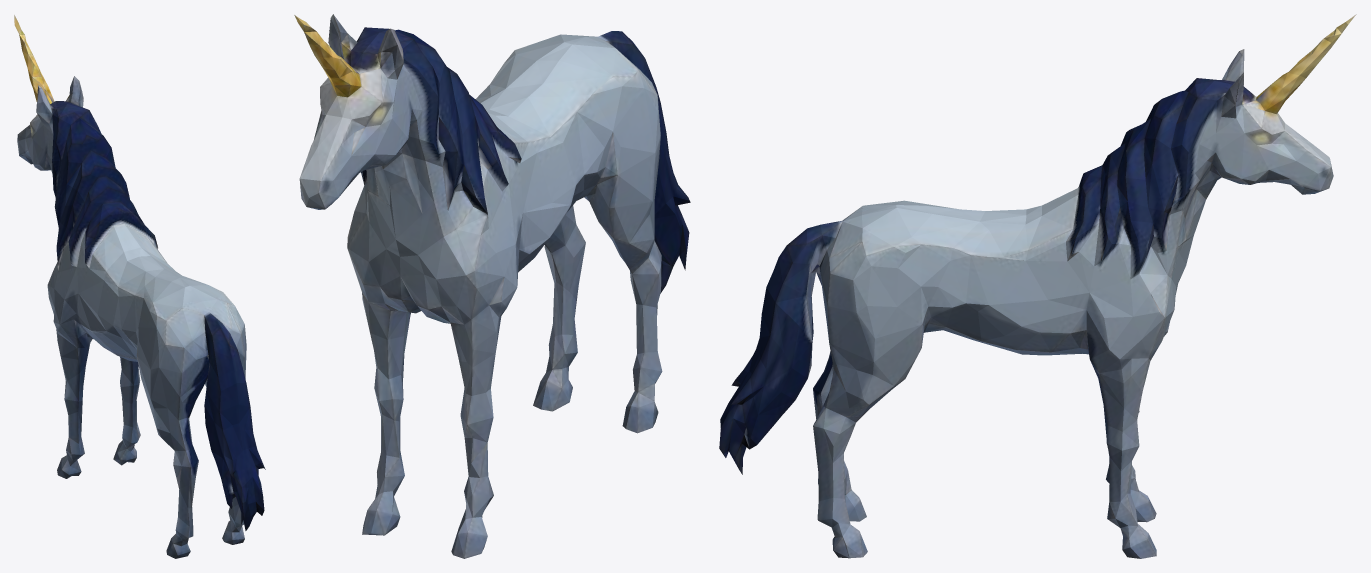
The model's file is foe_moonstagFawn.glb.
3 views of the same model, side by side, from view 1: azimuth 30°, elevation 25°; view 2: azimuth 150°, elevation 25°; view 3: azimuth 270°, elevation 25° (orthographic). The views are drawn at different scales.
Parts seen in each view (by area): view 1: tripo_node_ef4b5af0-8f37-4806-971e-e4a0803e8c20.001; view 2: tripo_node_ef4b5af0-8f37-4806-971e-e4a0803e8c20.001; view 3: tripo_node_ef4b5af0-8f37-4806-971e-e4a0803e8c20.001.
Part boxes in pixels (x1,y1,x2,y2): tripo_node_ef4b5af0-8f37-4806-971e-e4a0803e8c20.001: (14,15,265,558); tripo_node_ef4b5af0-8f37-4806-971e-e4a0803e8c20.001: (294,14,690,558); tripo_node_ef4b5af0-8f37-4806-971e-e4a0803e8c20.001: (719,14,1356,558).
Bounding box in the file's own units: 0.2291 × 0.8969 × 0.9926.
Materials: 1 (1 with a texture image).
